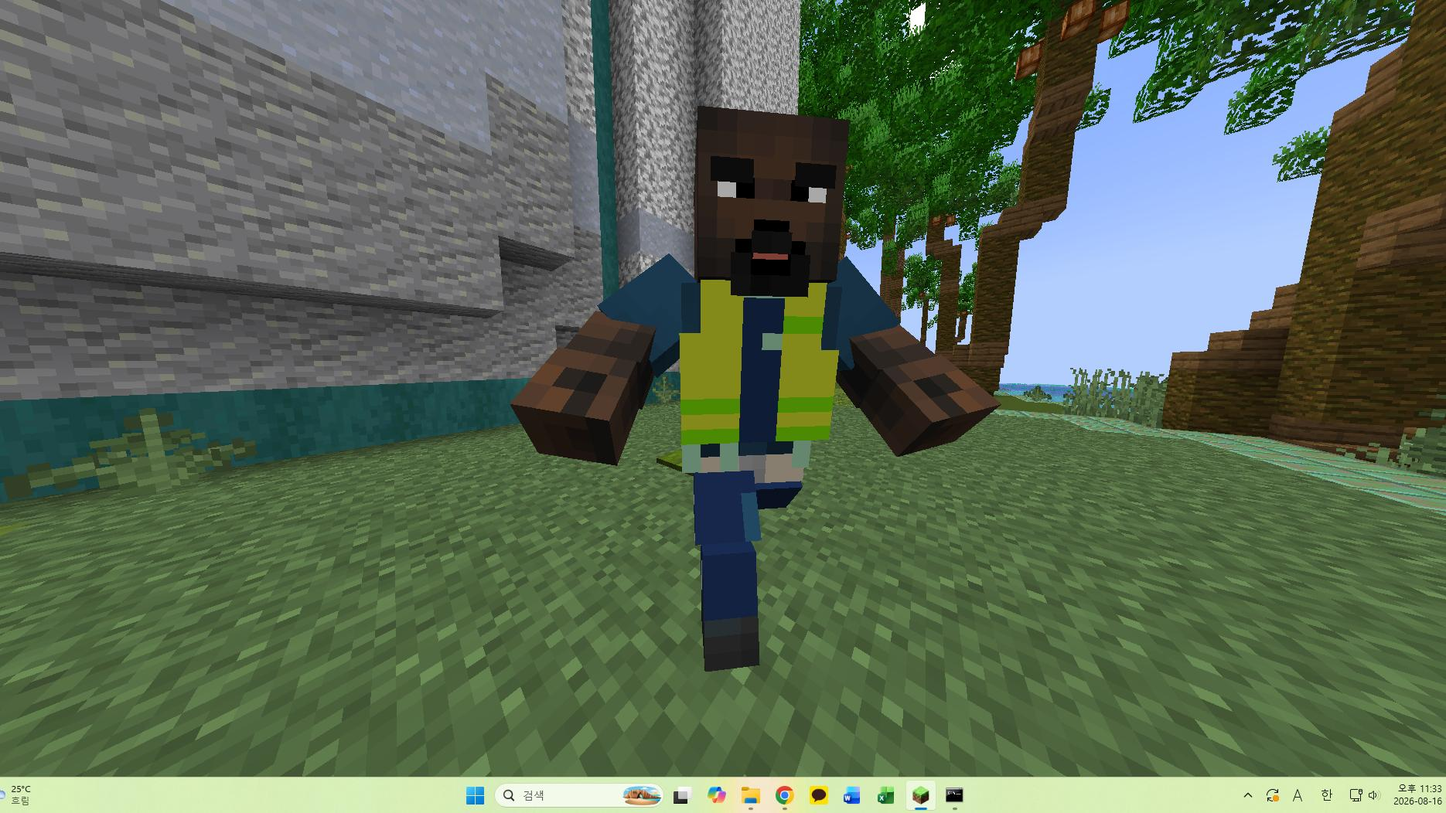Guardian: (512, 107, 998, 670)
